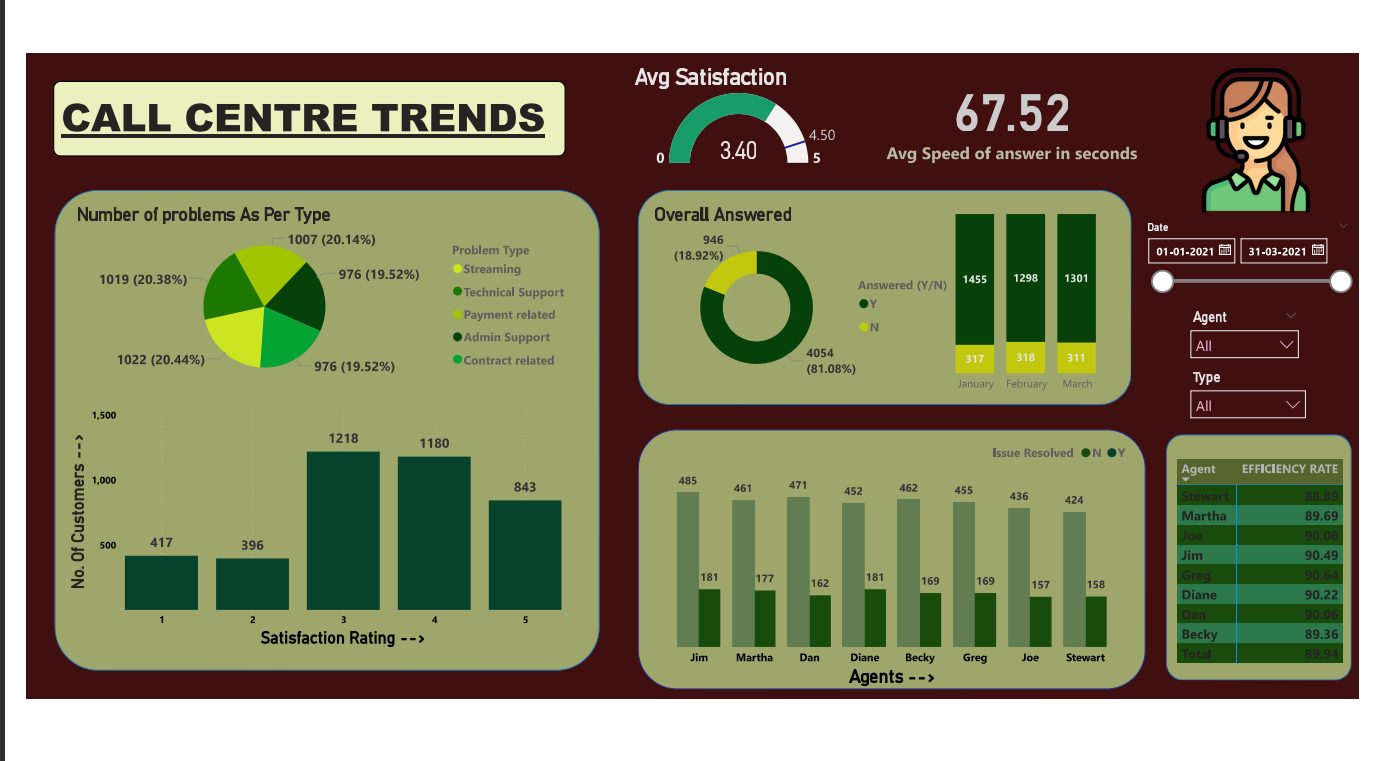

This screenshot's page, from the dashboard's own definition file:
{"tool":"powerbi","page":{"name":"Dashboard","canvas":[1280,720],"ordinal":0},"visuals":[{"type":"textbox","box":[30.2,31.4,571.7,84.4],"z":0},{"type":"card","fields":{"Values":["final_data.Speed of answer in seconds"]},"box":[733.5,2.4,298,138.7],"z":1000},{"type":"gauge","title":"Avg Satisfaction","fields":{"Y":["final_data.Satisfaction rating"],"TargetValue":["final_data.Standard_satisfaction_rate"]},"box":[1022.7,10.9,256.9,120.6],"z":2000},{"type":"donutChart","title":"Overall Calls Answered/Abandoned","fields":{"Category":["final_data.Answered (Y/N)"],"Y":["final_data.Answered (Y/N)"]},"box":[106.2,193.8,446.2,280],"z":3000},{"type":"shape","box":[31.2,152.5,608.8,536.2],"z":4000},{"type":"shape","box":[682.5,152.5,551.2,218.8],"z":5000},{"type":"shape","box":[682.6,483.6,566.8,226.7],"z":6000},{"type":"clusteredColumnChart","title":"Agent VS No. Of Issues Resolved or Unresolved","fields":{"Category":["final_data.Agent"],"Y":["final_data.Resolved"],"Series":["final_data.Resolved"]},"box":[697.1,485.7,540,225.7],"z":7000},{"type":"pieChart","title":"Number of problems As Per Type","fields":{"Category":["final_data.Topic"],"Y":["final_data.Resolved"]},"box":[51.2,168.8,563.8,206.2],"z":8000},{"type":"donutChart","title":"Overall Answered","fields":{"Category":["final_data.Answered (Y/N)"],"Y":["final_data.Answered (Y/N)"]},"box":[697.1,168.6,348.6,195.7],"z":9000},{"type":"columnChart","fields":{"Y":["final_data.Satisfaction rating"],"Category":["final_data.Satisfaction rating"]},"box":[41.2,387.5,561.2,280],"z":10000},{"type":"image","box":[601.8,2.4,142.3,141.1],"z":11000},{"type":"slicer","fields":{"Values":["final_data.Agent"]},"box":[682.6,387.1,142.3,67.5],"z":12000},{"type":"slicer","fields":{"Values":["final_data.Topic"]},"box":[840.6,387.1,148.3,66.3],"z":13000},{"type":"slicer","fields":{"Values":["final_data.Date"]},"box":[1001,387.1,248.4,98.9],"z":14000},{"type":"hundredPercentStackedColumnChart","fields":{"Y":["final_data.Call Id"],"Series":["final_data.Answered (Y/N)"],"Category":["final_data.Date.Variation.Date Hierarchy.Month"]},"box":[1018.6,164.3,214.3,212.9],"z":15000}]}

Visuals, with their boxes in screenshot pixels (x1, y1, x2, y2), scaled from the page's 1280x720 canvas onto the 1375x761 screenshot:
textbox: 32:33:647:122
card - final_data.Speed of answer in seconds: 788:3:1108:149
"Avg Satisfaction" gauge: 1099:12:1374:139
"Overall Calls Answered/Abandoned" donutChart: 114:205:593:501
shape: 34:161:688:728
shape: 733:161:1325:392
shape: 733:511:1342:751
"Agent VS No. Of Issues Resolved or Unresolved" clusteredColumnChart: 749:513:1329:752
"Number of problems As Per Type" pieChart: 55:178:661:396
"Overall Answered" donutChart: 749:178:1123:385
columnChart - final_data.Satisfaction rating x final_data.Satisfaction rating: 44:410:647:706
image: 646:3:799:152
slicer - final_data.Agent: 733:409:886:480
slicer - final_data.Topic: 903:409:1062:479
slicer - final_data.Date: 1075:409:1342:514
hundredPercentStackedColumnChart - final_data.Call Id x final_data.Answered (Y/N): 1094:174:1324:399
